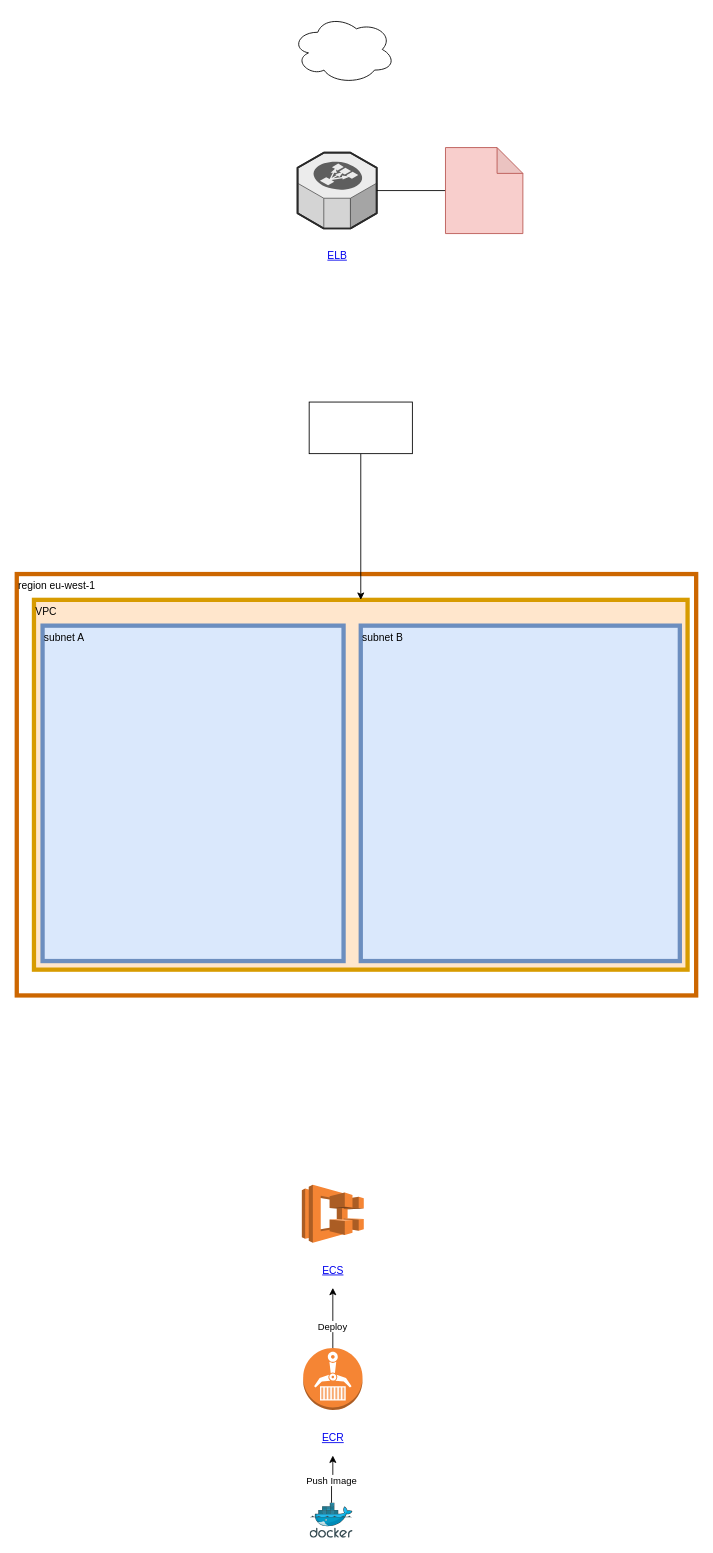
Some shapes in this 713 by 1553 pixel diagram are drawn without their labels. Each missing label, with the centre of its shape:
"Load Balancer Security Group" belongs at point 484,190.
"target-group" belongs at point 360,427.
